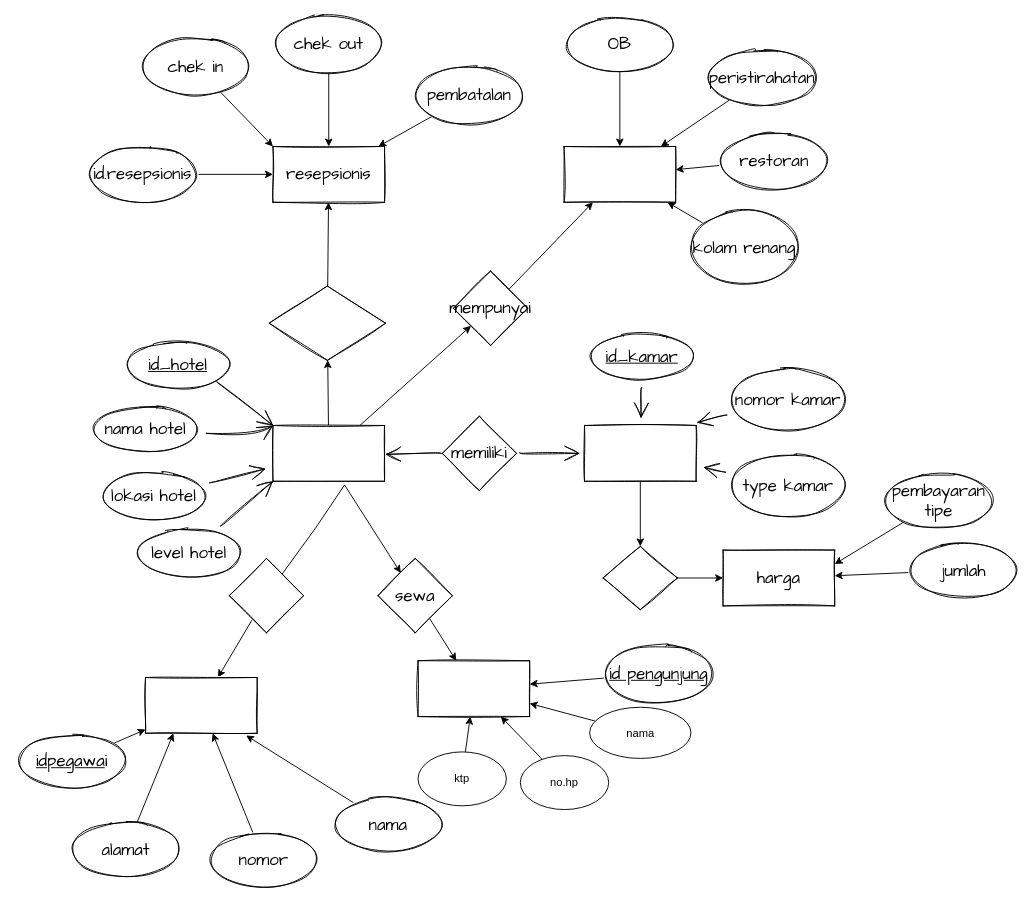
The diagram is 1036 pixels wide and 904 high, and some of its shapes have lost their labels. The centre of each missing label's shape, as x and y in pixels:
"biaya" goes at point 640,577.
"fasilitas" goes at point 619,174.
"hotel" goes at point 328,453.
"kamar" goes at point 640,453.
"kerja" goes at point 266,595.
"pegawai" goes at point 201,705.
"pelayanan" goes at point 326,322.
"pengunjung" goes at point 473,688.
